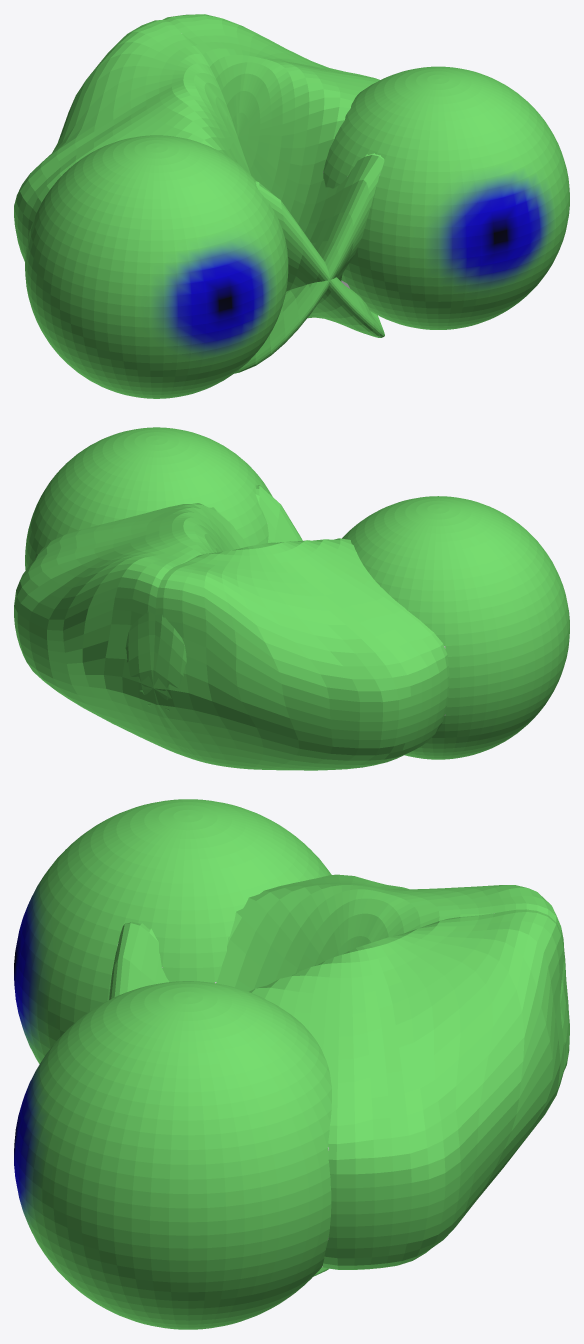
File: ExportedBlenderFBXFile.fbx
3 renders of one model, top to bottom at view 1: azimuth 30°, elevation 25°; view 2: azimuth 150°, elevation 25°; view 3: azimuth 270°, elevation 25°, orthographic. The views are drawn at different scales.
Parts seen in each view (by area): view 1: Sphere_001; view 2: Sphere_001; view 3: Sphere_001.
Boxes of the visible parts, left/top/right/bottom form: Sphere_001: left=14, top=14, right=569, bottom=398; Sphere_001: left=14, top=427, right=569, bottom=770; Sphere_001: left=14, top=799, right=569, bottom=1329.
Bounding box in the file's own units: 4.47 × 2.05 × 3.19.
